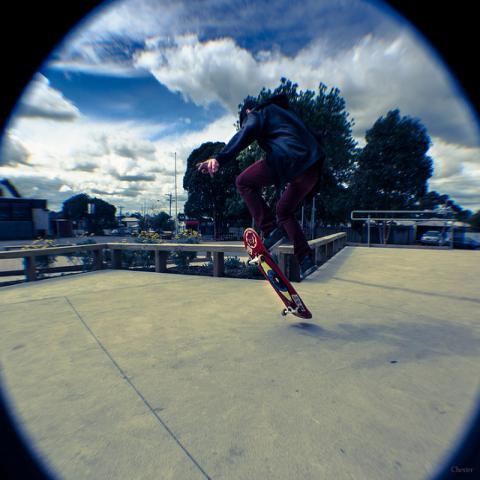car: (452, 236, 480, 250), (420, 231, 442, 247), (443, 232, 452, 245)
